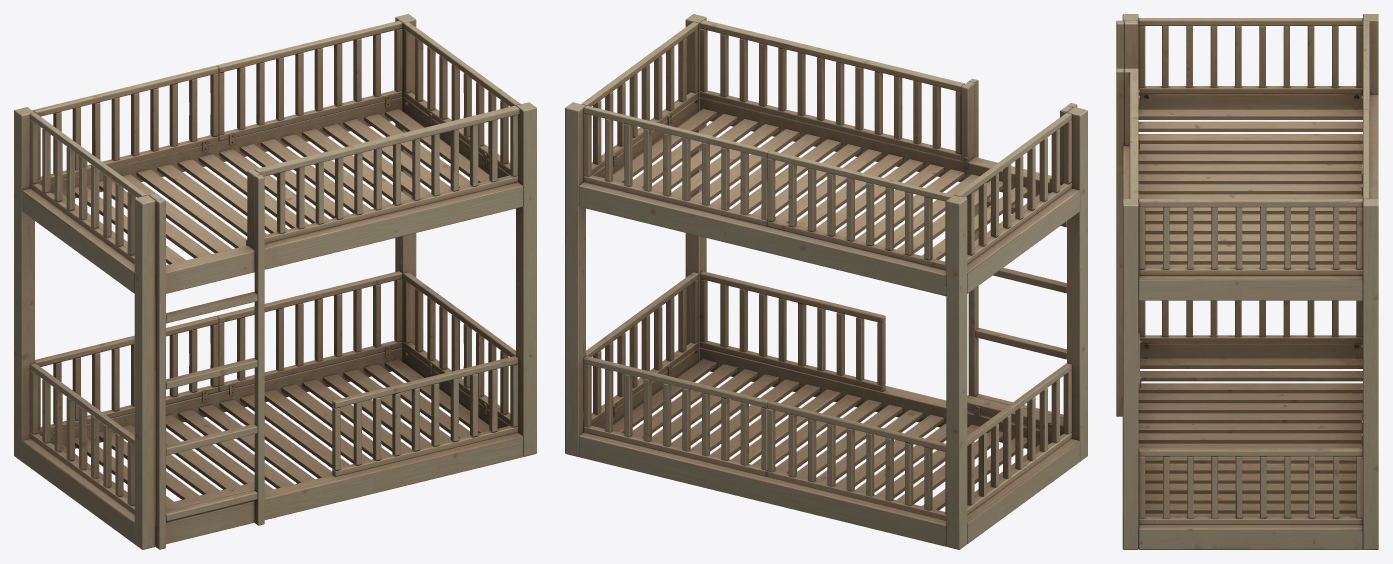
The picture shows the model from 3 angles, left to right: view 1: azimuth 30°, elevation 25°; view 2: azimuth 150°, elevation 25°; view 3: azimuth 270°, elevation 25°; orthographic projection.
Parts seen in each view (by area): view 1: 160x80; view 2: 160x80; view 3: 160x80.
Part boxes in pixels (bbox=[...]): 160x80: bbox=[14, 14, 536, 549]; 160x80: bbox=[565, 14, 1087, 549]; 160x80: bbox=[1116, 14, 1378, 549].
Bounding box in the file's own units: 1.72 × 1.45 × 0.9951.
1 material, 1 textured.
